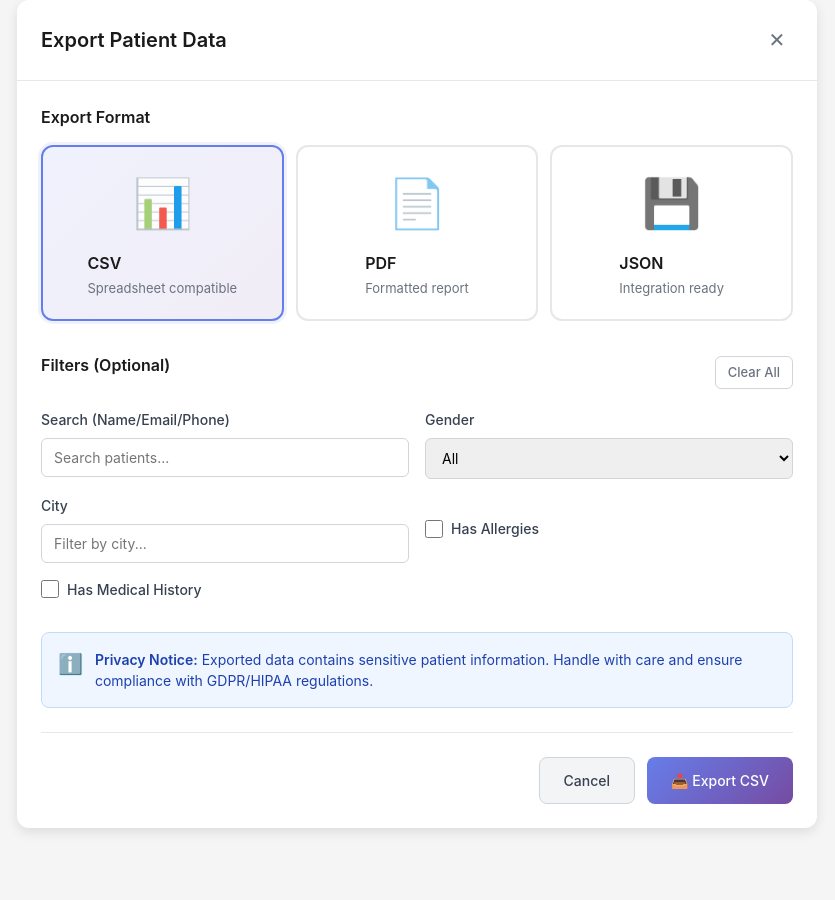
Test case: PatientExport › handles export error
Click the button "📥 Export CSV" at point(720, 780), box [647,756,793,804]
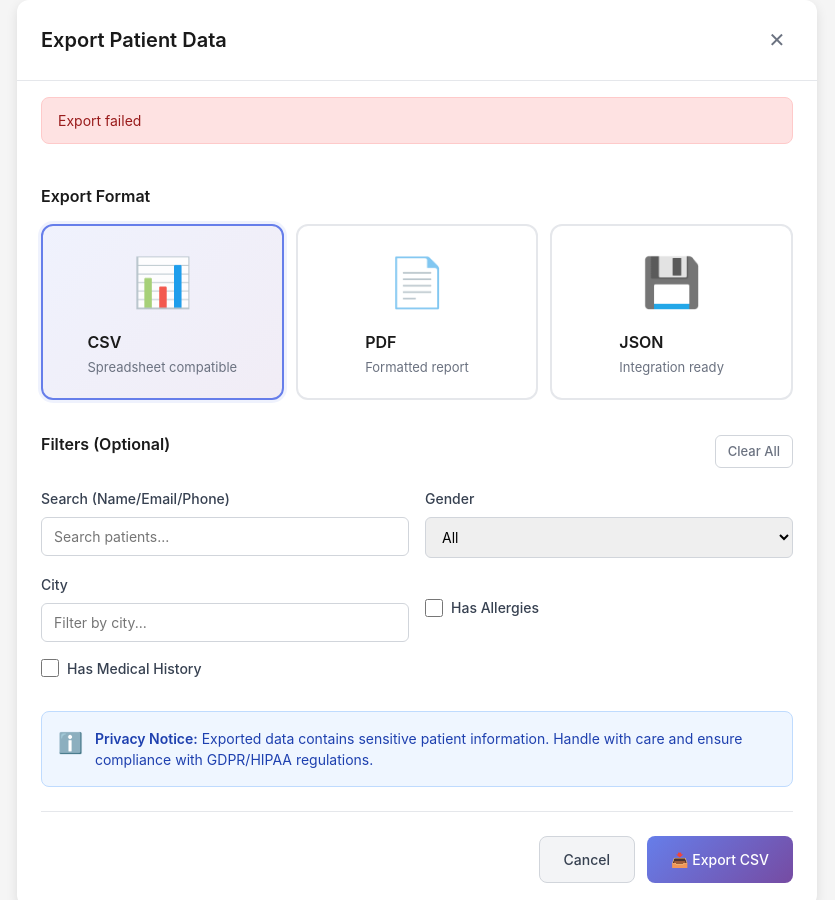
Result: the text "Export failed" is shown at [41,97,793,144]
